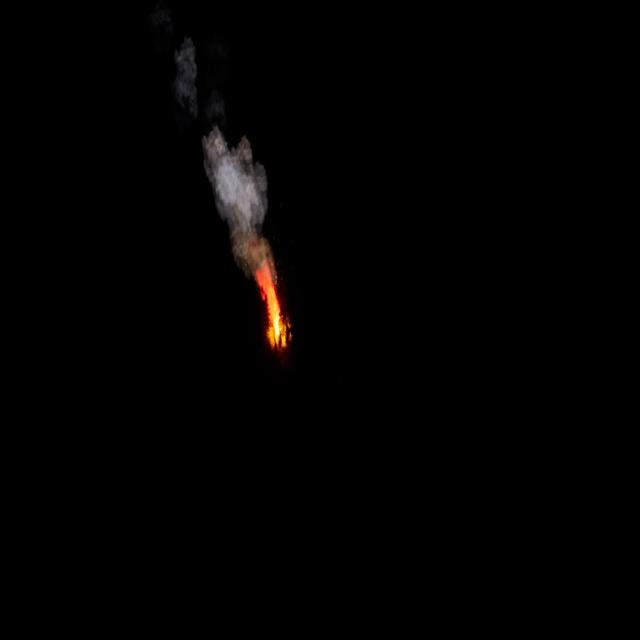fire: (256, 265, 290, 346)
smoke: (202, 125, 277, 272)
